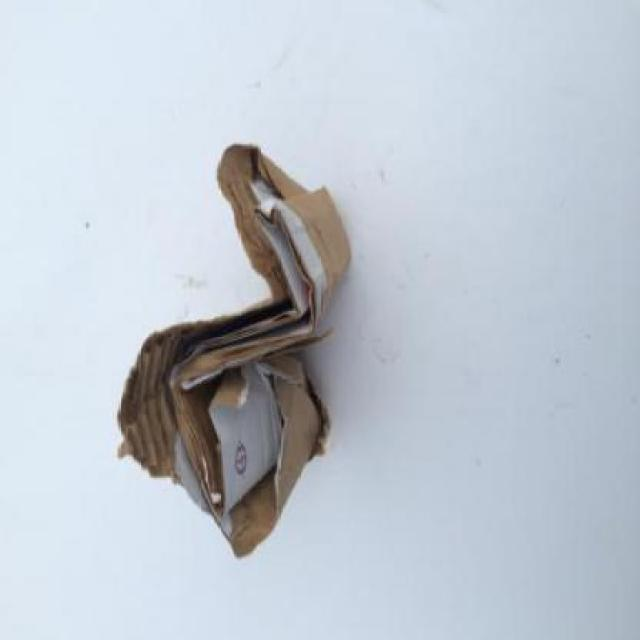box: (94, 105, 380, 611)
